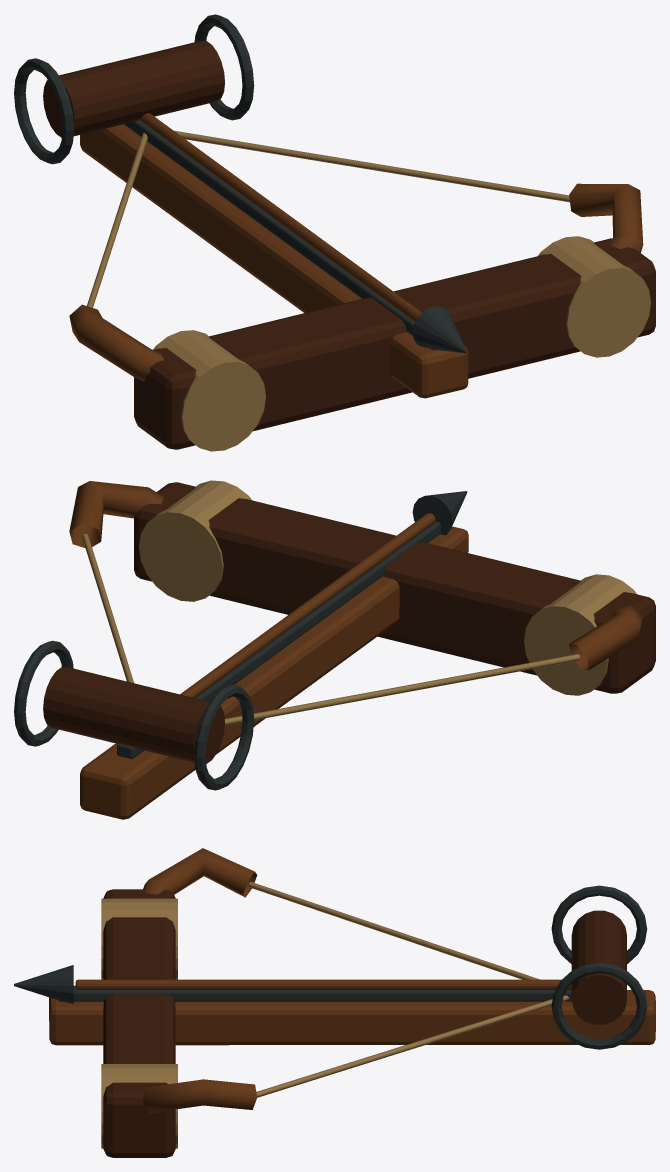
File: ballista_orientable_weapon.glb
The picture shows the model from 3 angles, top to bottom: view 1: azimuth 30°, elevation 25°; view 2: azimuth 150°, elevation 25°; view 3: azimuth 270°, elevation 25°; orthographic projection. The views are drawn at different scales.
Visible parts, largest first — view 1: BallistaFrontCrosshead, BallistaBoltRail, BallistaWinchDrum, BallistaTorsionCoil, BallistaTorsionCoil.001, BallistaLoadedBolt, BallistaSliderChannel, BallistaThrowingArm.001, BallistaThrowingArm, BallistaStringLeft, BallistaWinchWheel, BallistaWinchWheel.001 (+2 smaller); view 2: BallistaFrontCrosshead, BallistaBoltRail, BallistaWinchDrum, BallistaTorsionCoil.001, BallistaTorsionCoil, BallistaLoadedBolt, BallistaSliderChannel, BallistaThrowingArm.001, BallistaWinchWheel, BallistaStringRight, BallistaThrowingArm, BallistaWinchWheel.001 (+2 smaller); view 3: BallistaBoltRail, BallistaFrontCrosshead, BallistaSliderChannel, BallistaLoadedBolt, BallistaWinchDrum, BallistaThrowingArm.001, BallistaThrowingArm, BallistaWinchWheel.001, BallistaWinchWheel, BallistaStringLeft, BallistaStringRight, BallistaTorsionCoil (+2 smaller).
Part boxes in pixels (bbox=[...]): BallistaFrontCrosshead: bbox=[134, 238, 655, 449]; BallistaBoltRail: bbox=[80, 124, 468, 398]; BallistaWinchDrum: bbox=[43, 40, 224, 137]; BallistaTorsionCoil: bbox=[153, 330, 265, 451]; BallistaTorsionCoil.001: bbox=[538, 236, 650, 357]; BallistaLoadedBolt: bbox=[139, 113, 421, 321]; BallistaSliderChannel: bbox=[124, 120, 435, 350]; BallistaThrowingArm.001: bbox=[569, 183, 643, 252]; BallistaThrowingArm: bbox=[69, 304, 163, 381]; BallistaStringLeft: bbox=[174, 130, 569, 202]; BallistaWinchWheel: bbox=[14, 58, 74, 164]; BallistaWinchWheel.001: bbox=[194, 14, 254, 120]; BallistaFrontCrosshead: bbox=[134, 482, 655, 693]; BallistaBoltRail: bbox=[80, 526, 468, 819]; BallistaWinchDrum: bbox=[43, 667, 224, 763]; BallistaTorsionCoil.001: bbox=[139, 480, 252, 601]; BallistaTorsionCoil: bbox=[524, 574, 636, 695]; BallistaLoadedBolt: bbox=[180, 513, 435, 697]; BallistaSliderChannel: bbox=[117, 521, 440, 758]; BallistaThrowingArm.001: bbox=[69, 481, 164, 547]; BallistaWinchWheel: bbox=[194, 684, 254, 790]; BallistaStringRight: bbox=[224, 654, 580, 725]; BallistaThrowingArm: bbox=[569, 605, 643, 670]; BallistaWinchWheel.001: bbox=[14, 640, 73, 746]; BallistaBoltRail: bbox=[49, 990, 655, 1045]; BallistaFrontCrosshead: bbox=[103, 889, 175, 1157]; BallistaSliderChannel: bbox=[59, 985, 571, 1001]; BallistaLoadedBolt: bbox=[75, 979, 571, 989]; BallistaWinchDrum: bbox=[571, 910, 626, 1024]; BallistaThrowingArm.001: bbox=[142, 1079, 257, 1113]; BallistaThrowingArm: bbox=[143, 848, 257, 897]; BallistaWinchWheel.001: bbox=[551, 963, 647, 1049]; BallistaWinchWheel: bbox=[551, 885, 647, 963]; BallistaStringLeft: bbox=[256, 995, 569, 1097]; BallistaStringRight: bbox=[248, 882, 539, 979]; BallistaTorsionCoil: bbox=[101, 898, 177, 979].
Bounding box in the file's own units: 2.69 × 0.715 × 3.02.
